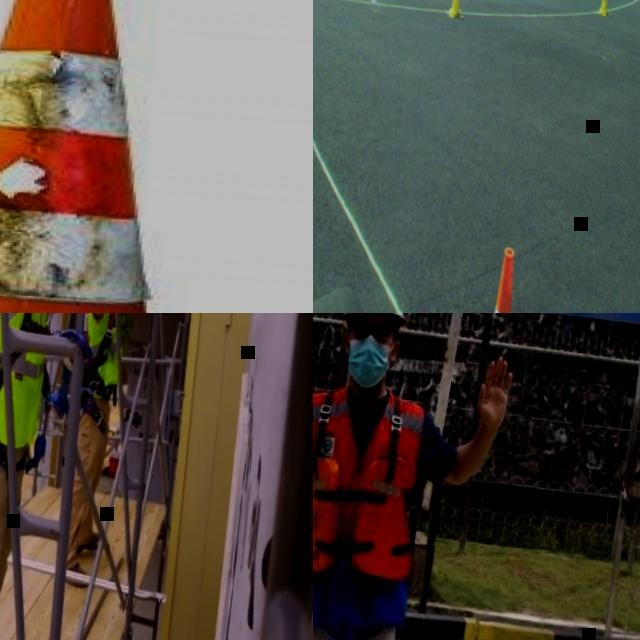Mask: (343, 334, 394, 393)
Person: (313, 313, 532, 640), (0, 313, 131, 640), (60, 313, 146, 589)
Safety Cone: (0, 0, 313, 313), (486, 250, 519, 313), (446, 0, 466, 19), (597, 0, 612, 17)
Safety Vest: (313, 382, 427, 587), (0, 313, 53, 449), (79, 313, 128, 397)
